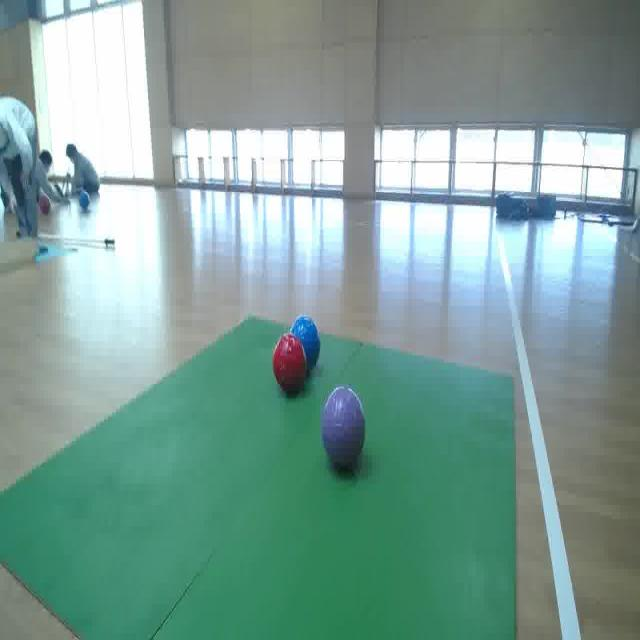blue_ball: (292, 318, 319, 387)
purple_ball: (323, 392, 365, 462)
red_ball: (270, 333, 308, 400)
